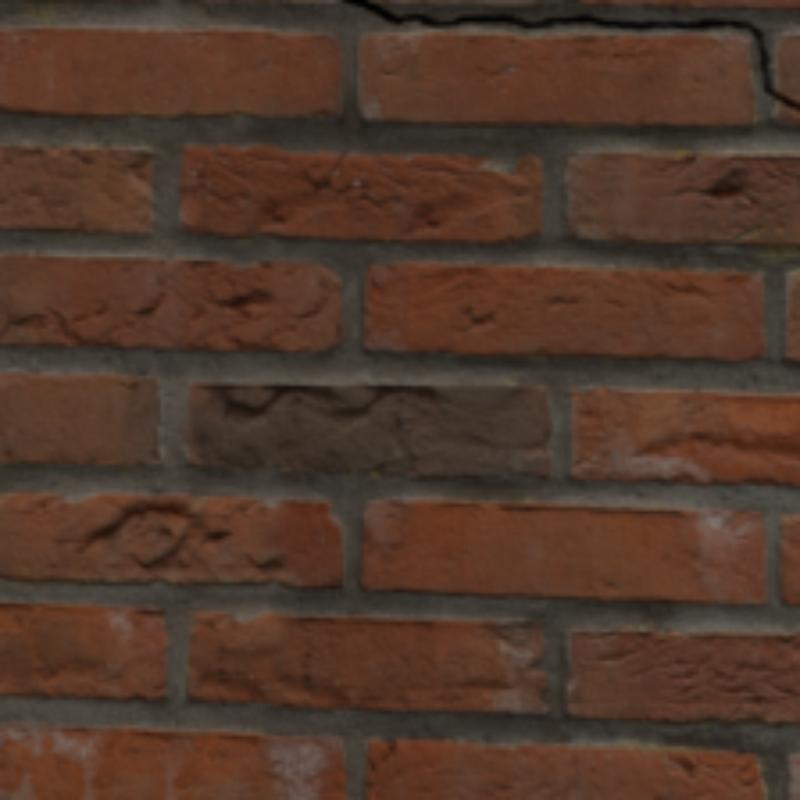pothole: (605, 21, 796, 107), (361, 0, 520, 25), (549, 14, 603, 21)
